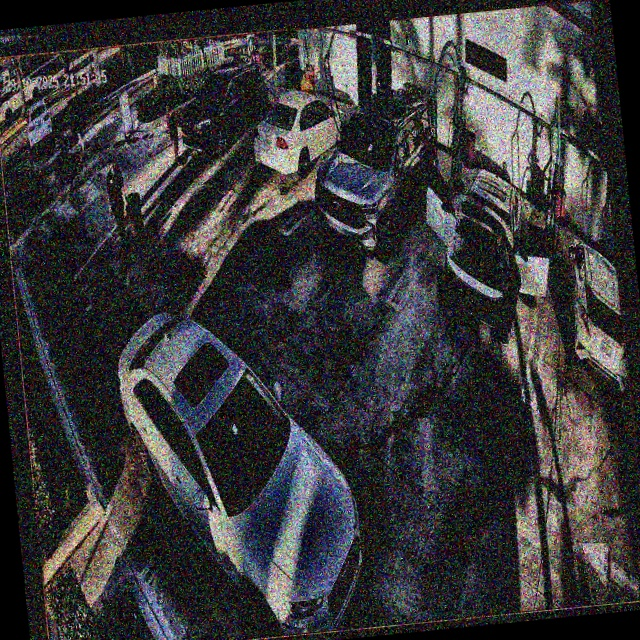Car: (113, 298, 370, 640), (306, 77, 444, 269), (429, 151, 559, 339), (174, 62, 272, 164), (251, 87, 352, 177)
